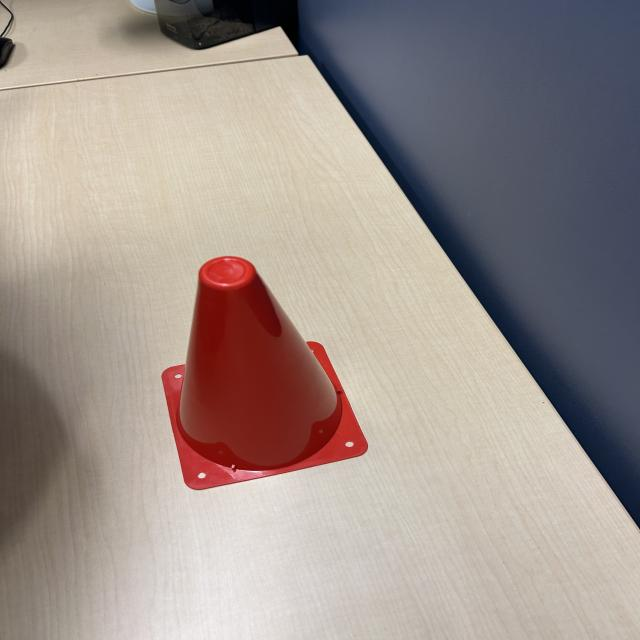orange cone: (158, 250, 371, 490)
